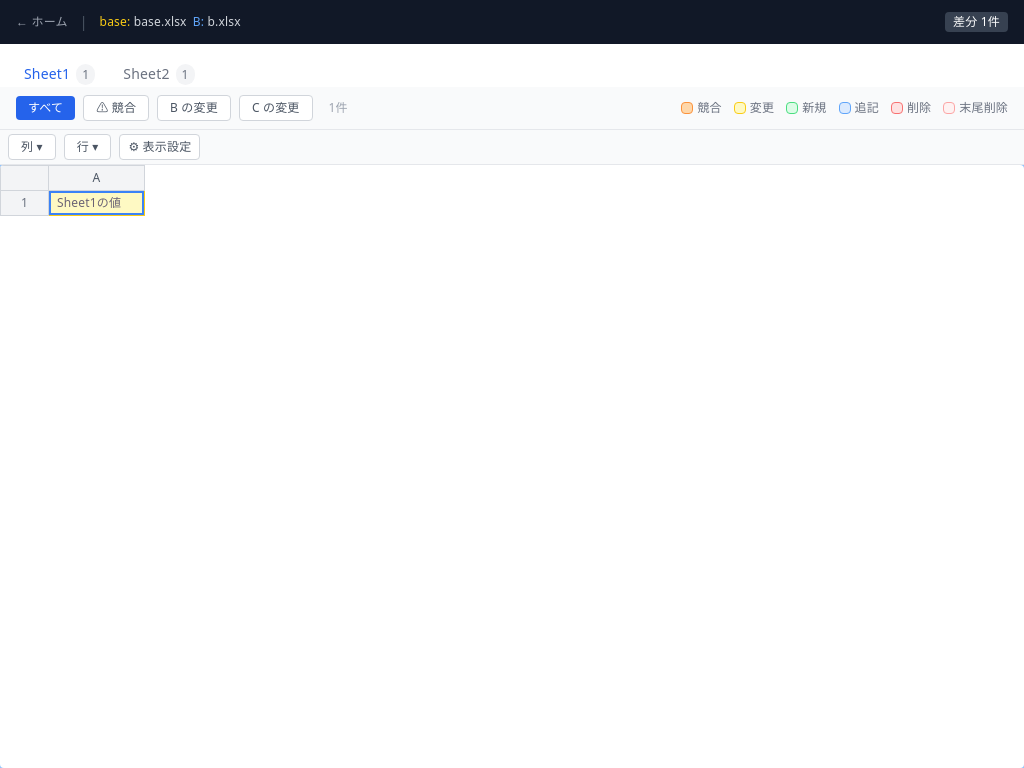
Test: B-029: シート切り替え › シートタブをクリックするとそのシートのグリッドが表示される
Expected: the text "Sheet1の値" is shown, [48, 190, 144, 216]
Click the button "Sheet21": x=159, y=75 [111, 56, 207, 94]
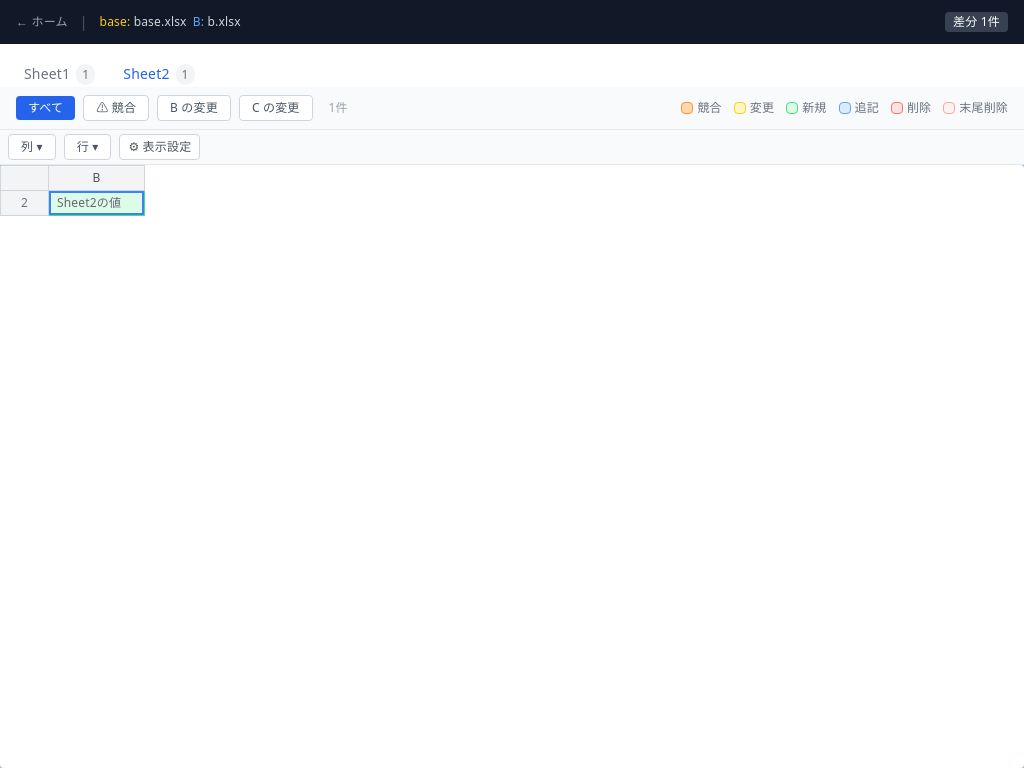
Expected: the text "Sheet2の値" is shown, [48, 190, 144, 216]
